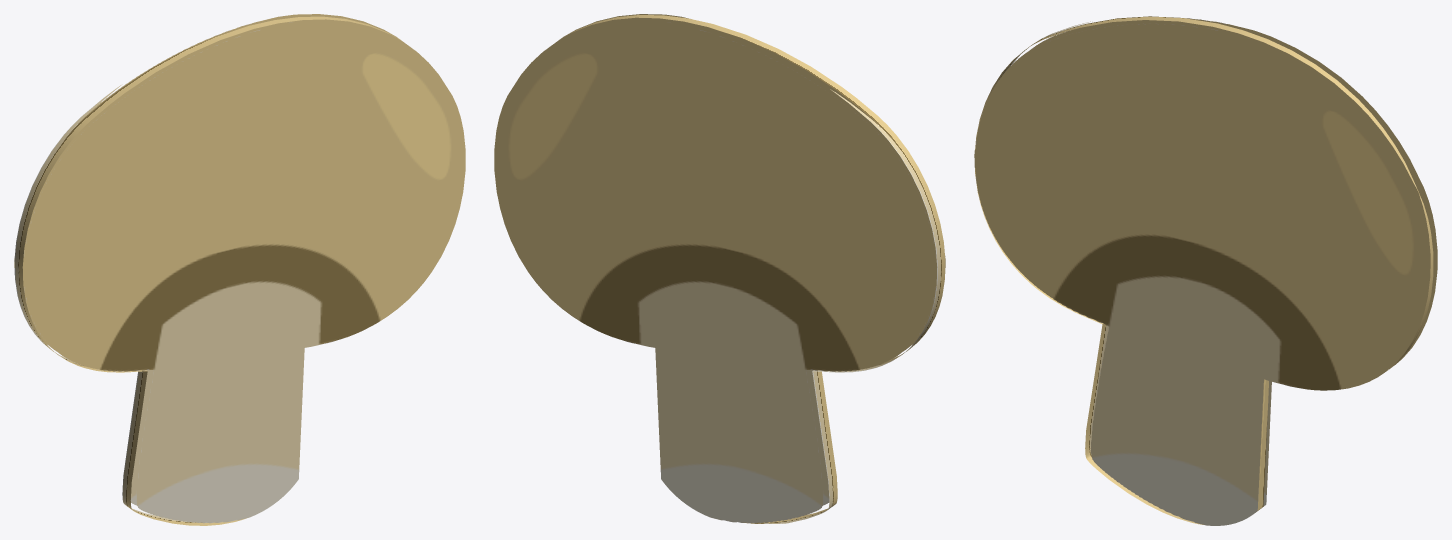
The model's file is mushroom.fbx.
3 views of the same model, side by side, from view 1: azimuth 30°, elevation 25°; view 2: azimuth 150°, elevation 25°; view 3: azimuth 330°, elevation 25° (orthographic). The views are drawn at different scales.
Visible parts, largest first — view 1: muchroom; view 2: muchroom; view 3: muchroom.
Boxes of the visible parts, box(x1,y1,x2,y2) form: muchroom: box(14, 14, 465, 525); muchroom: box(494, 14, 945, 523); muchroom: box(974, 16, 1437, 525).
Size of the model in its own units: 10.4 by 10.95 by 0.3528.
1 material, 1 textured.
